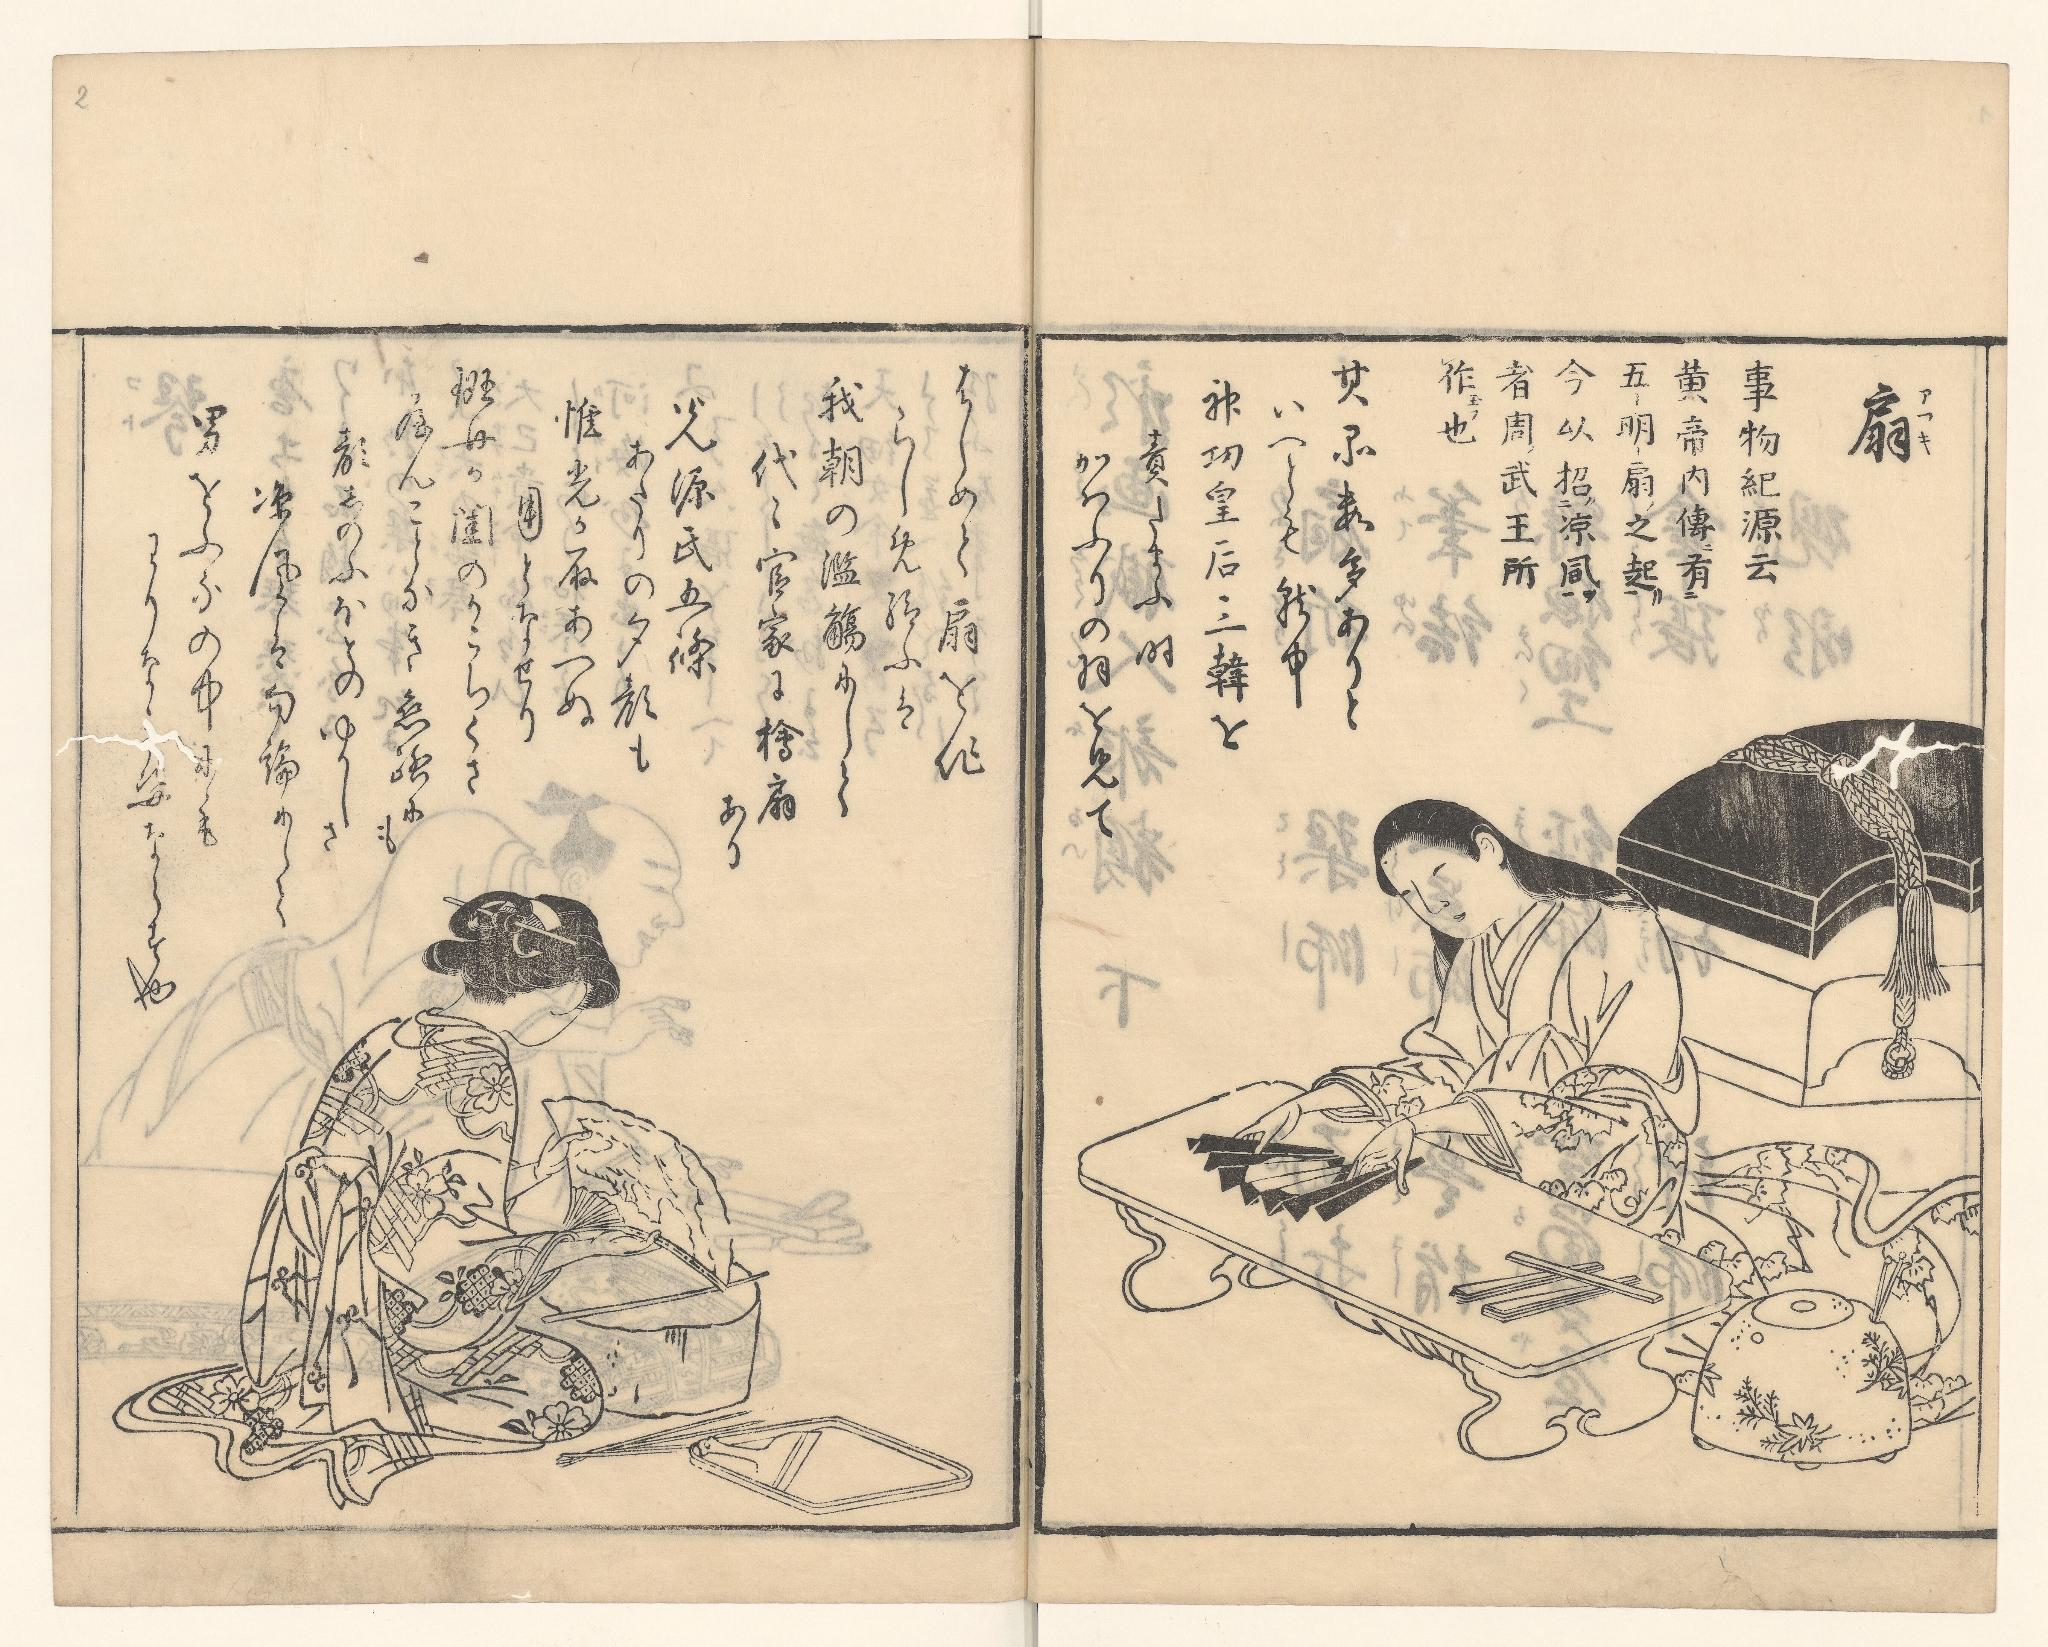MainZone-Character: (1843, 375, 1944, 476)
MainZone-Ruby: (1917, 381, 1939, 460)
